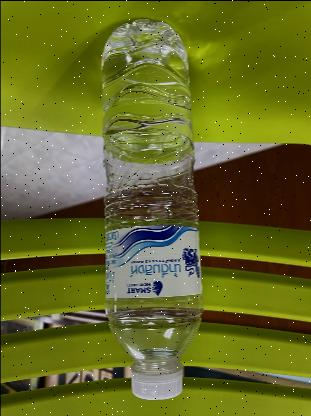Plastic Bottle: (98, 15, 202, 401)
